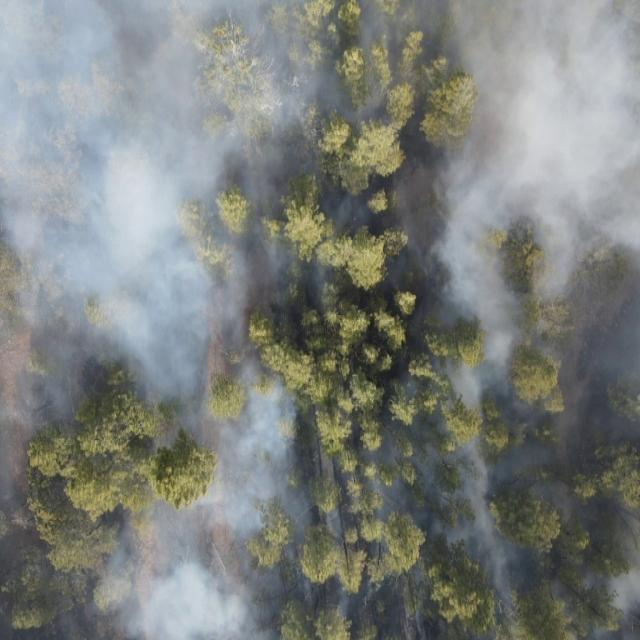smoke: (0, 0, 637, 294), (0, 295, 251, 639), (413, 295, 640, 640), (299, 427, 413, 640), (252, 354, 298, 640), (367, 374, 413, 430)
